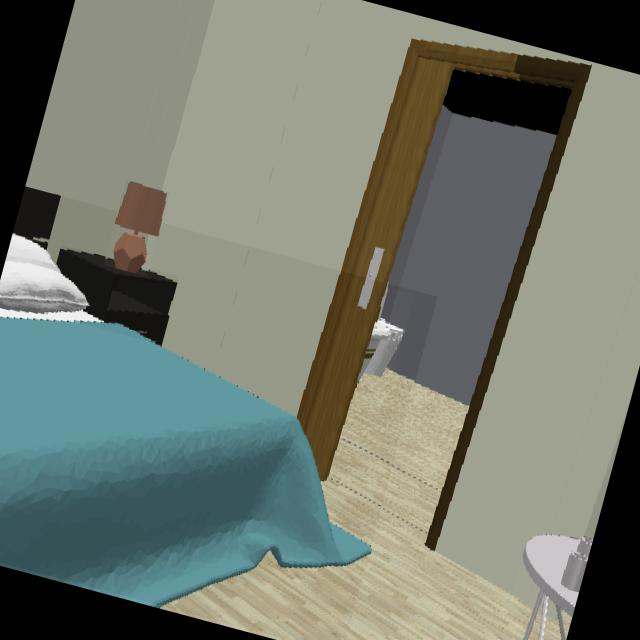bed: (0, 189, 369, 605)
lamp: (113, 181, 166, 273)
nighttable: (56, 253, 175, 344)
table: (522, 534, 579, 640)
toilet: (360, 287, 402, 379)
